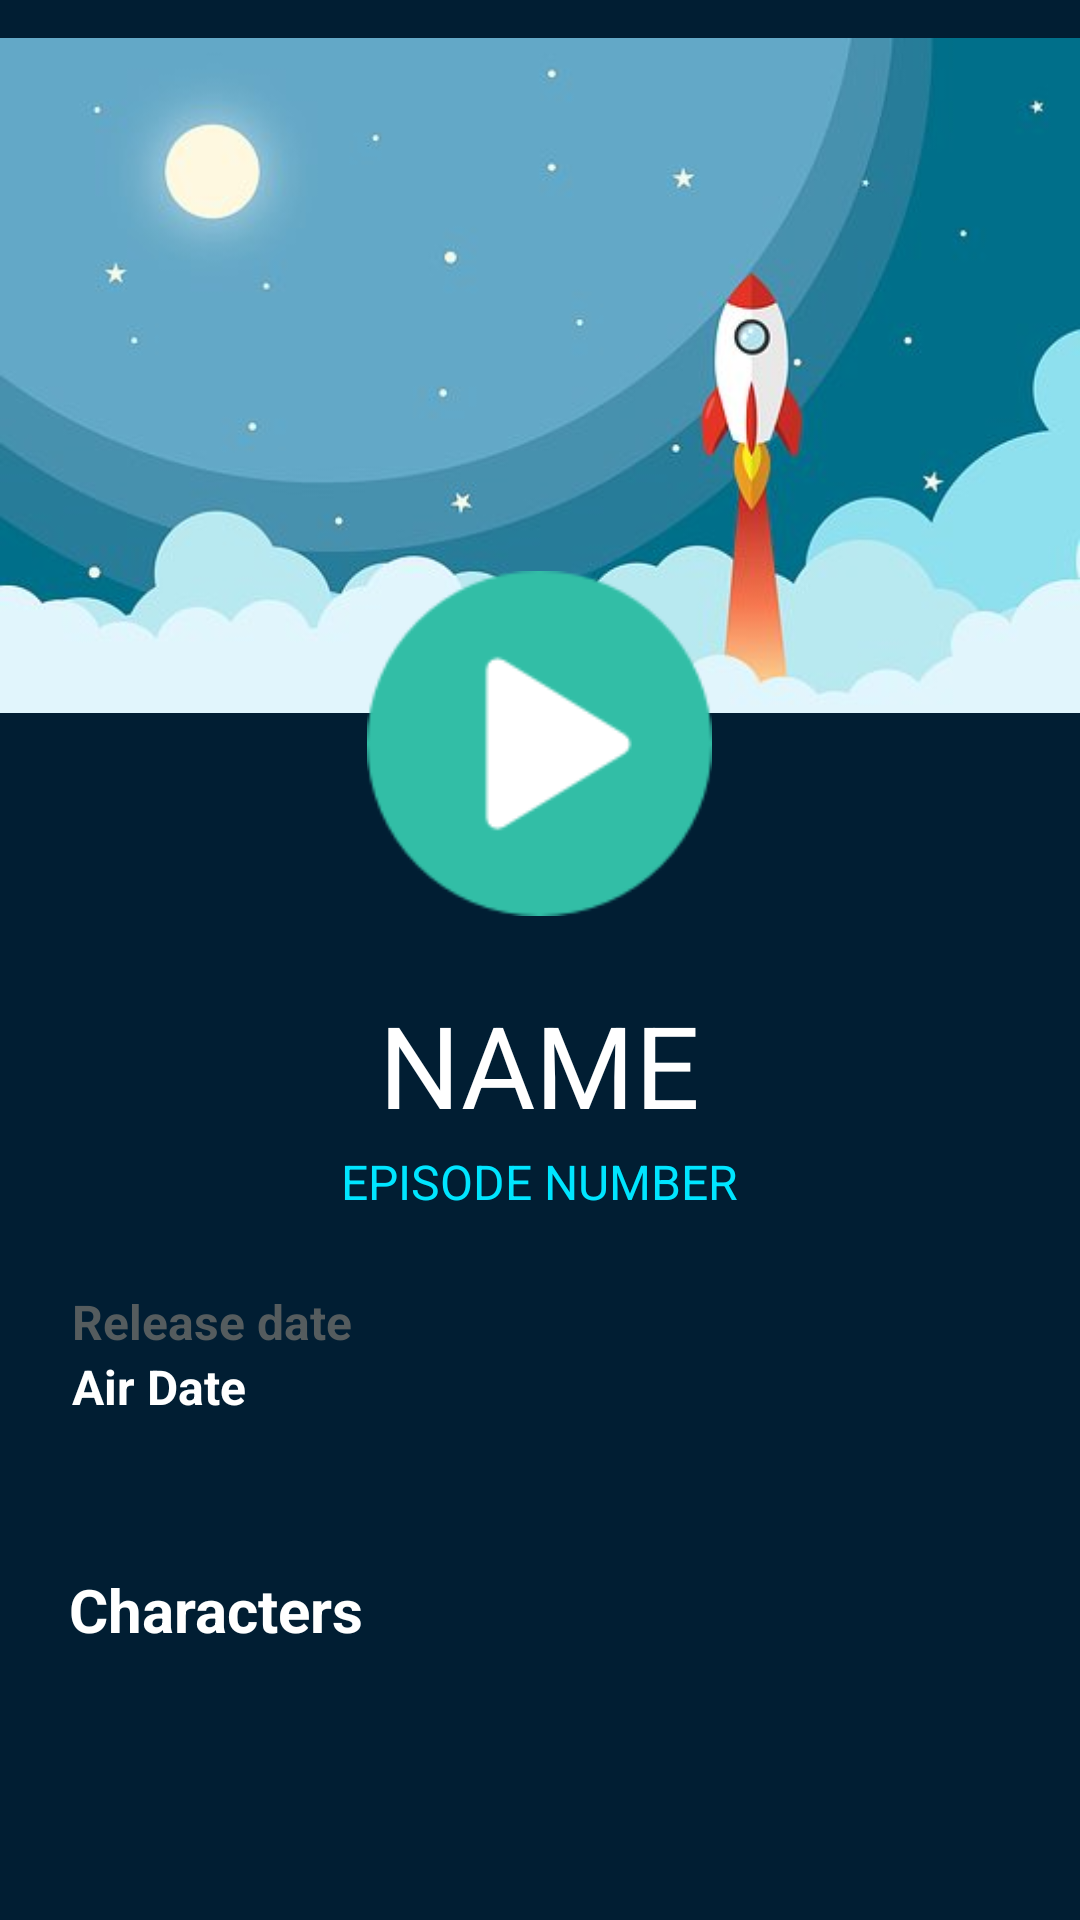

Named icons in this screenshot (1080x1920) and their centers, point (x, y):
de play: point (539, 743)
